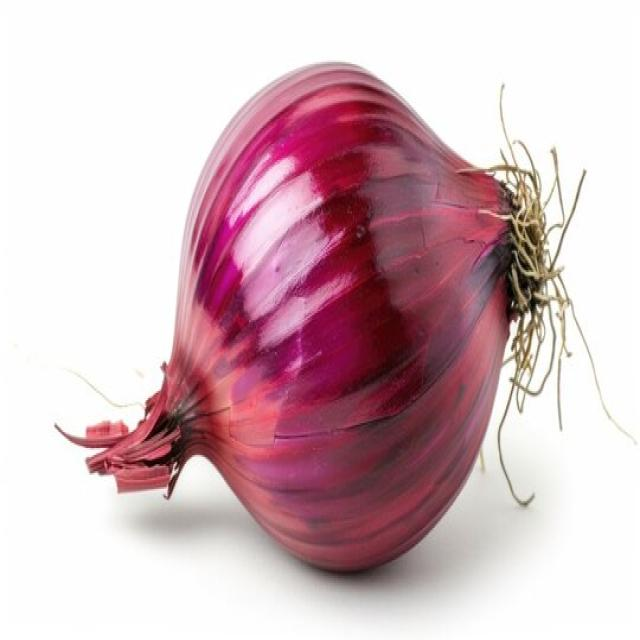Onion: (52, 59, 635, 574)
